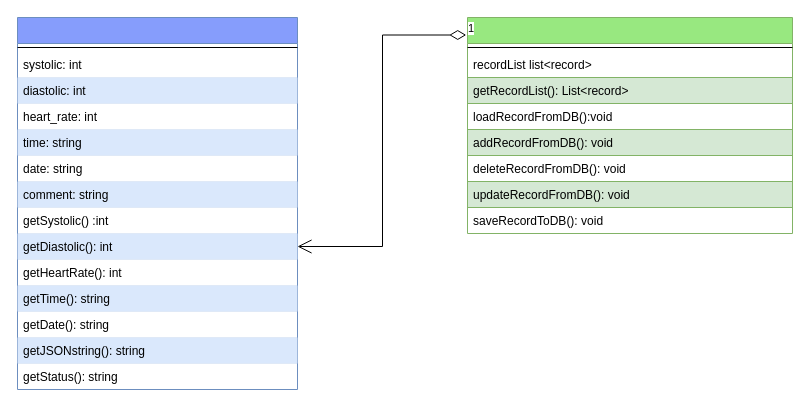
The diagram is 810 pixels wide and 410 high, and some of its shapes have lost their labels. Each missing label, with the box of its shape:
PatientRecordList: (466, 16, 792, 234)
PatientRecords: (16, 16, 298, 390)
